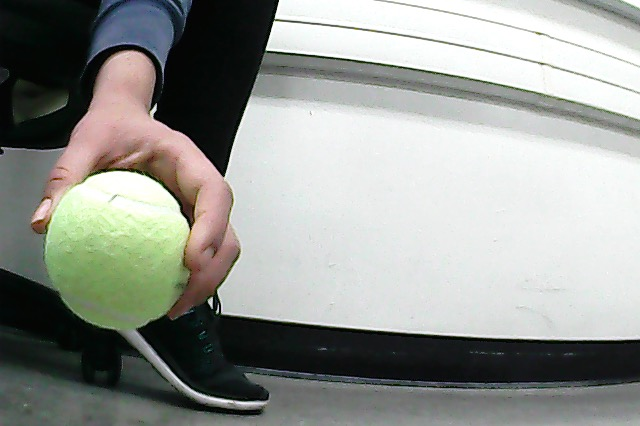ball: (43, 171, 195, 333)
